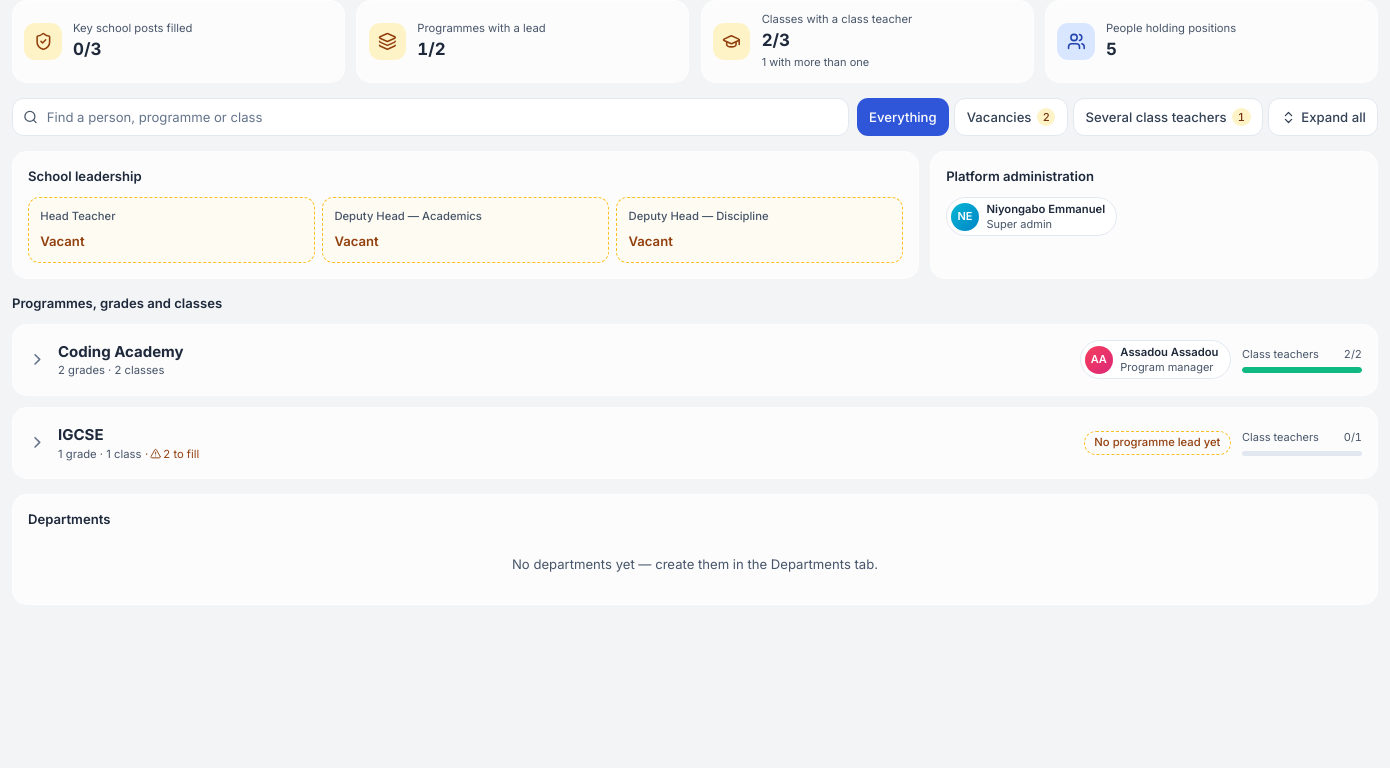
Test case: Structure tab › says so when nothing matches, with a way back
Type "zzz" into the search field labelled "Find a person, programme or class" at (431, 117), box [12,98,849,136]
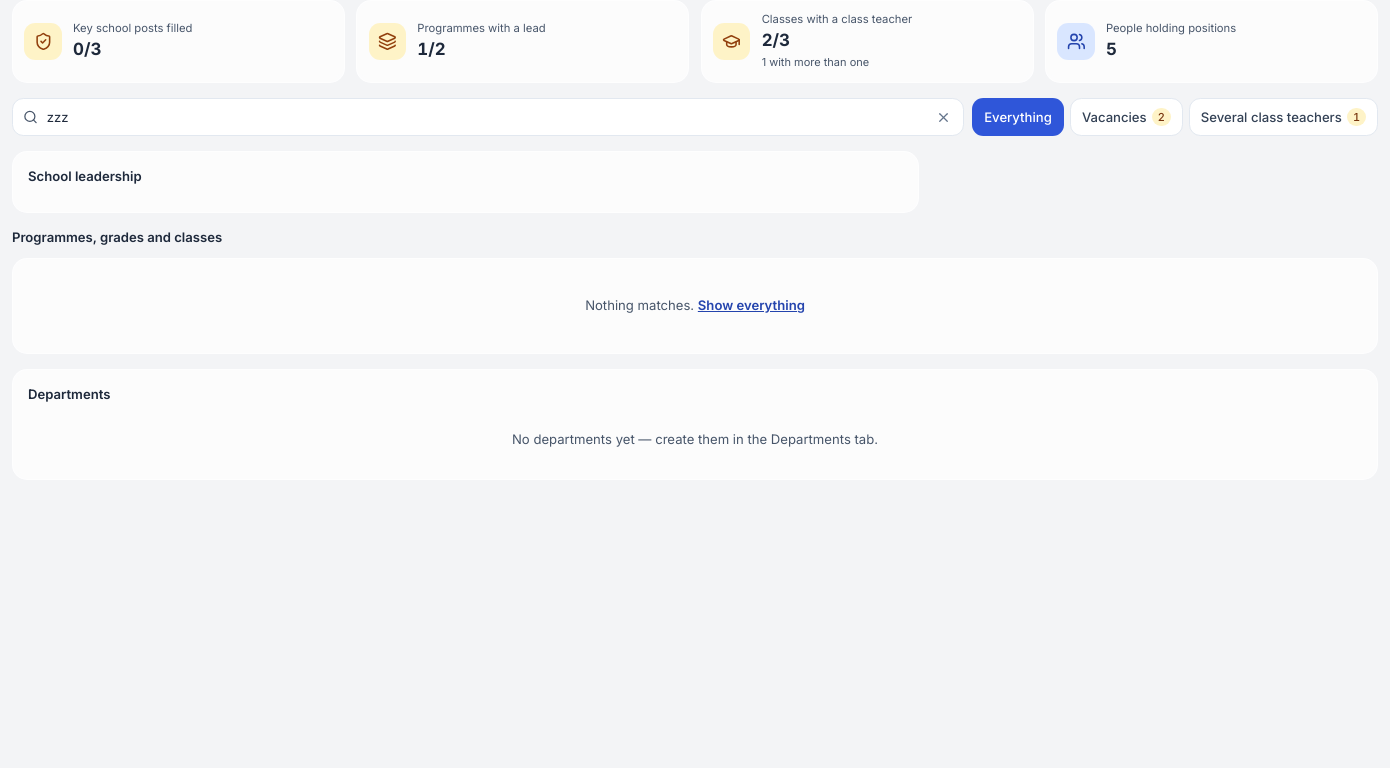
Click the button "Show everything" at (751, 306), box [698,296,805,315]
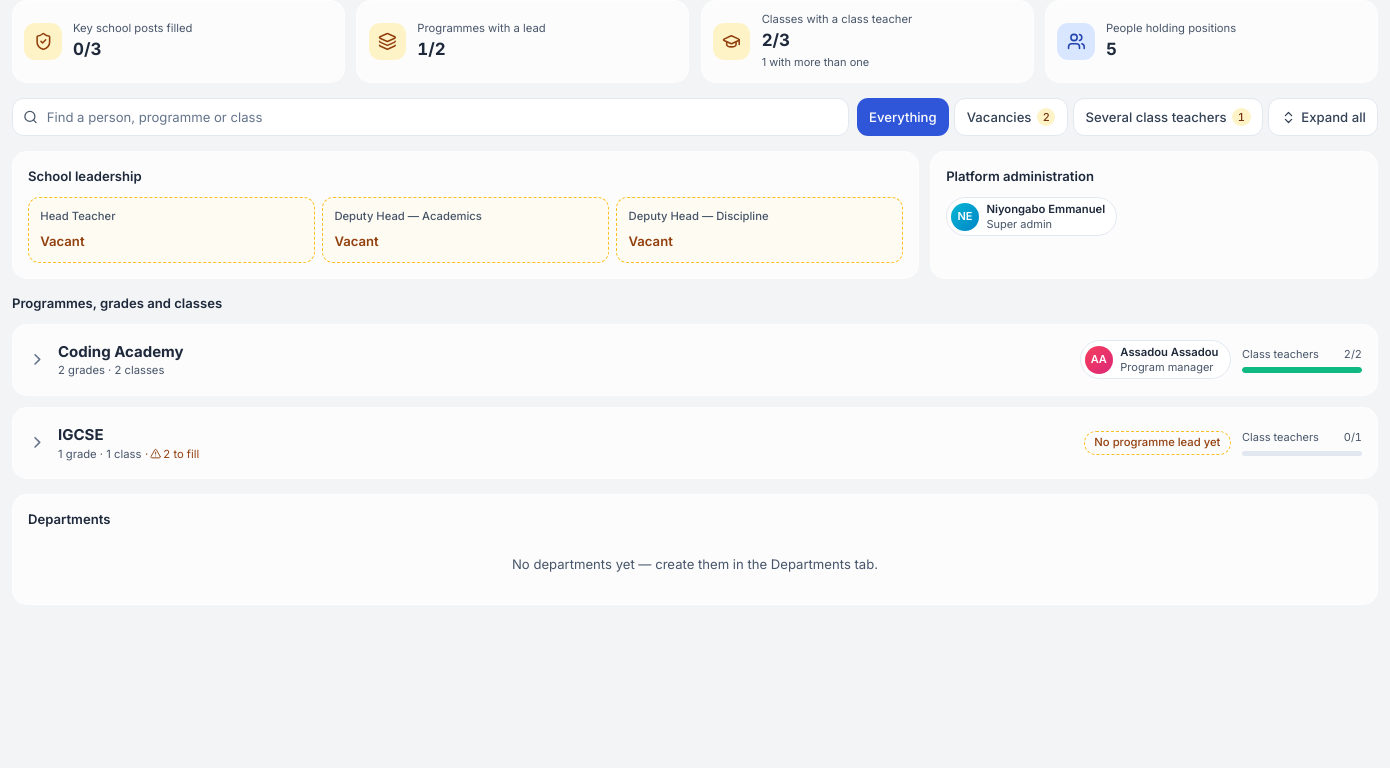
Expected: the button "IGCSE 1 grade · 1 class · 2 to fill" is shown, [28,423,1073,463]
